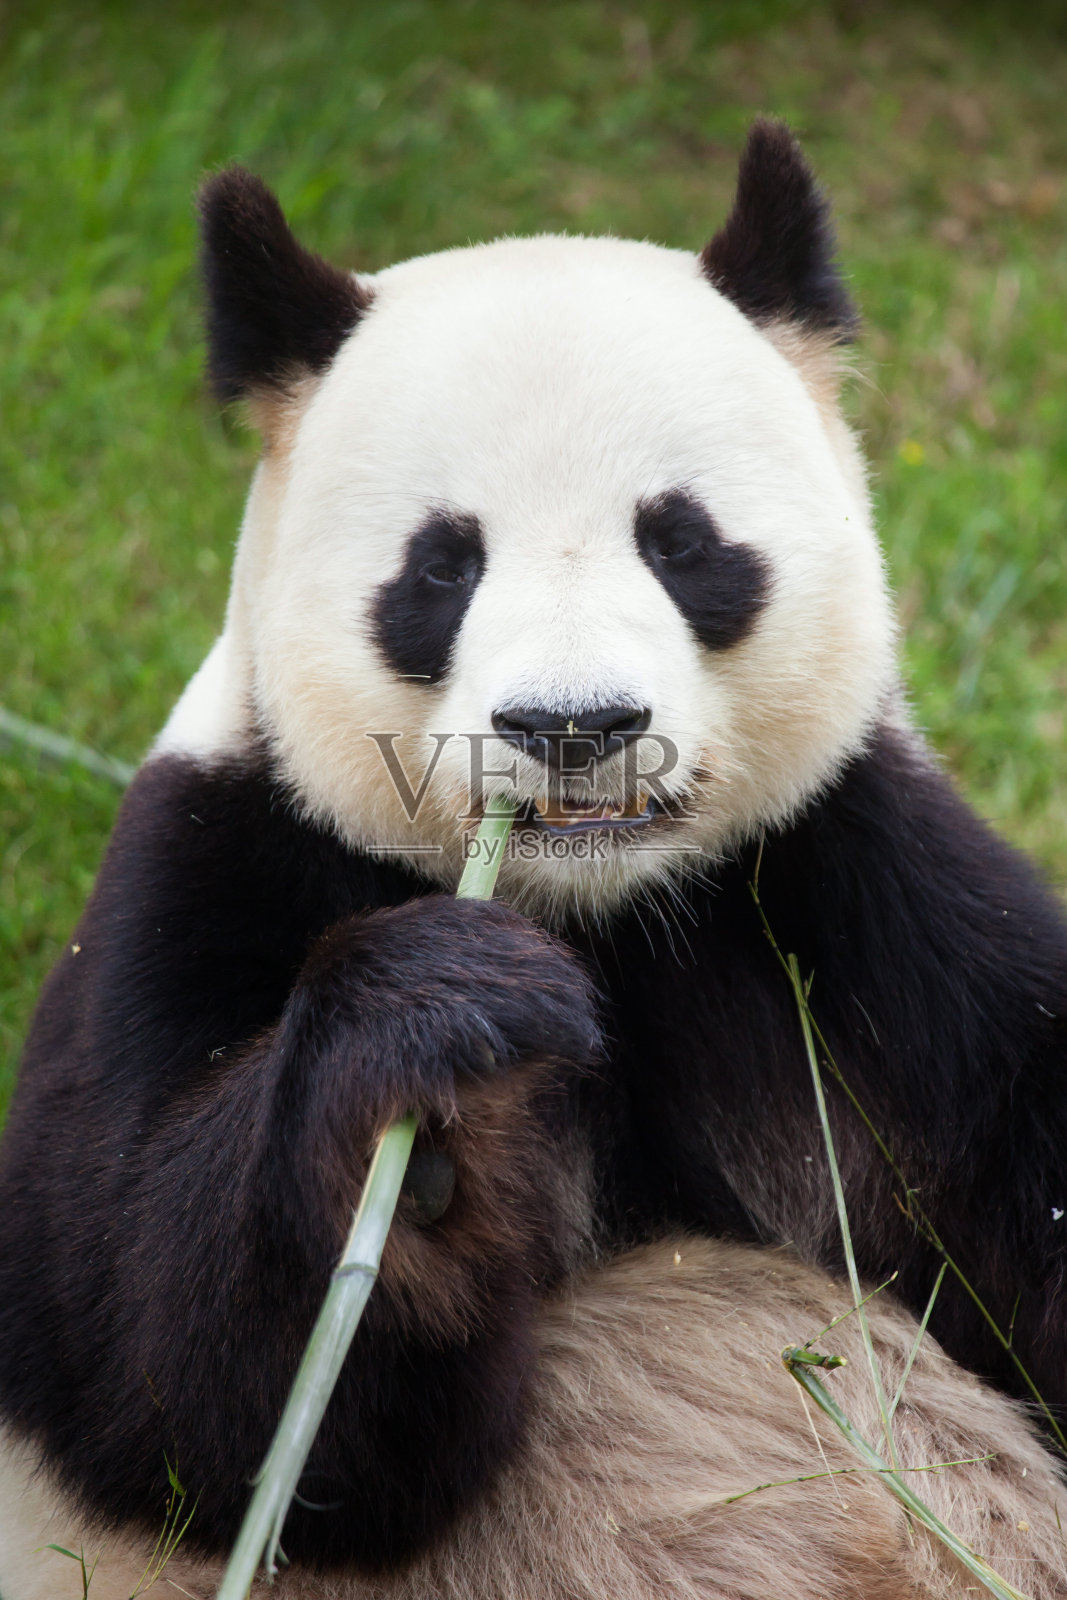panda: (62, 135, 1032, 1573)
